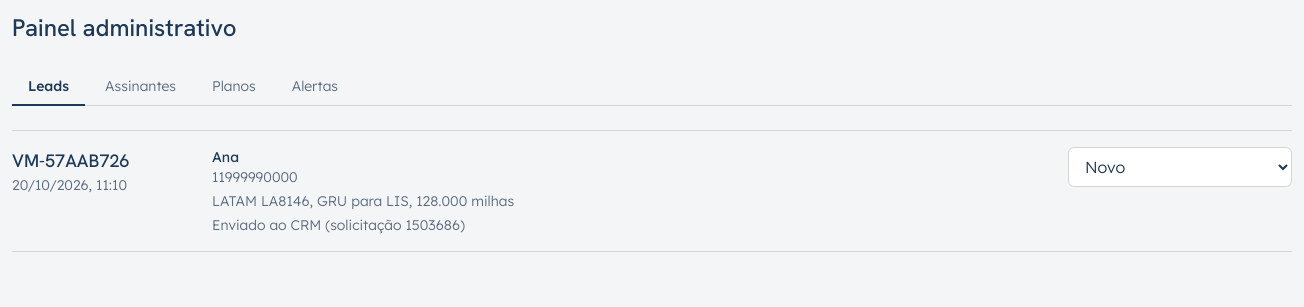
Test: Admin › mostra o histórico de verificações e roda uma nova sob demanda
Step 1. Click the tab "Alertas" → (315, 87), box x1=276 y1=68 x2=354 y2=106
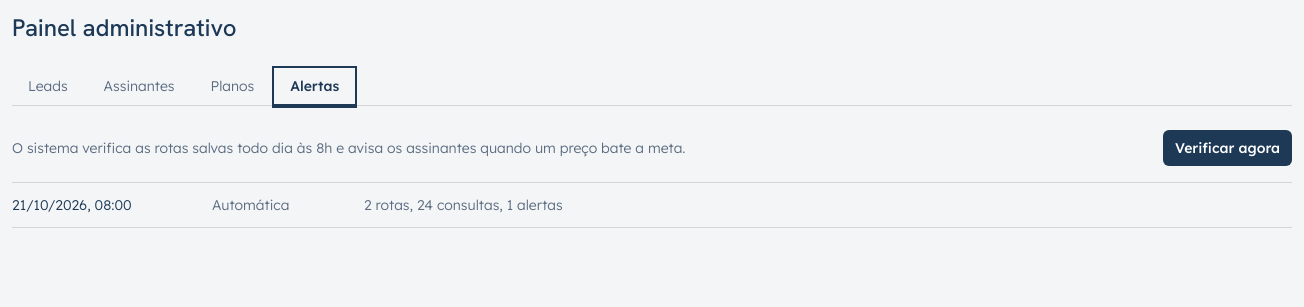
Now the text "Automática" is shown, box x1=212 y1=196 x2=289 y2=214
Now the text "2 rotas, 24 consultas, 1 alertas" is shown, box x1=364 y1=196 x2=563 y2=214
Step 2. Click the button "Verificar agora" → (1228, 148), box x1=1163 y1=130 x2=1292 y2=166
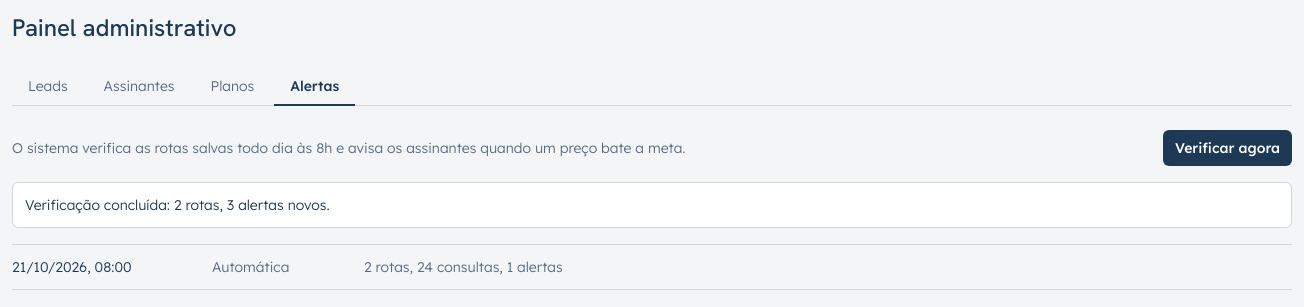
Now the text "Verificação concluída: 2 rotas, 3 alertas novos." is shown, box x1=12 y1=182 x2=1292 y2=228
